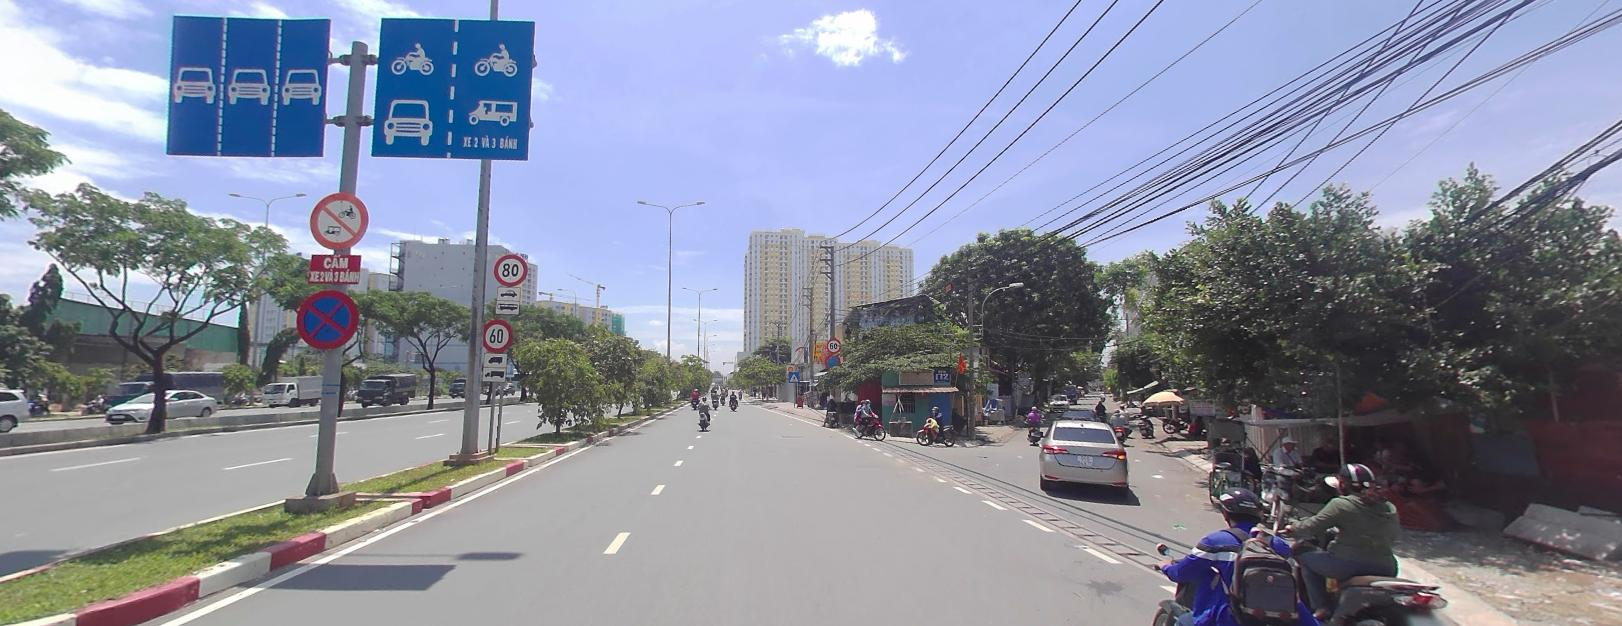Cam con lai: (308, 191, 367, 248)
Cam dung va do: (297, 287, 357, 347), (824, 353, 840, 370)
Gioi han toc do: (480, 317, 511, 350), (494, 254, 525, 284), (825, 337, 840, 352)
